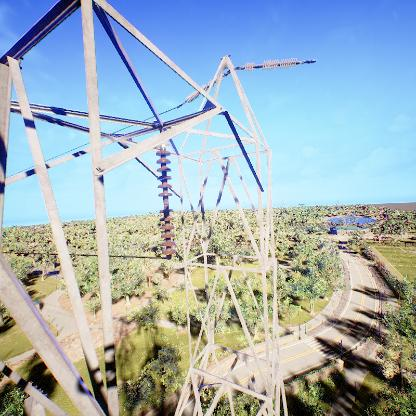insulator: (154, 147, 180, 259)
